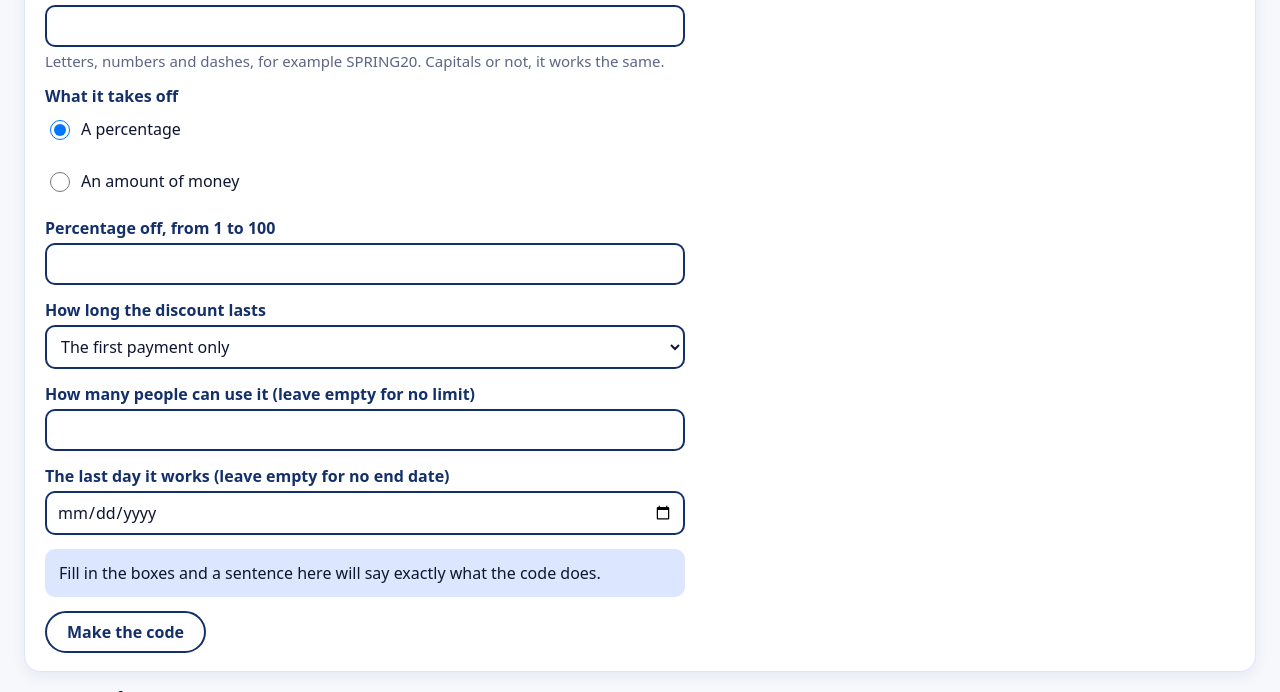
Test: the form › has a labelled box for everything, a percentage chosen to begin with, and months only when months are chosen
(page scrolled)
Check: the field labelled "The code members type" is shown, box [45,5,685,47]
Check: the field labelled "Percentage off, from 1 to 100" is shown, box [45,243,685,285]
Select "A number of months" in the dropdown labelled "How long the discount lasts": point(365, 347) [45,325,685,369]
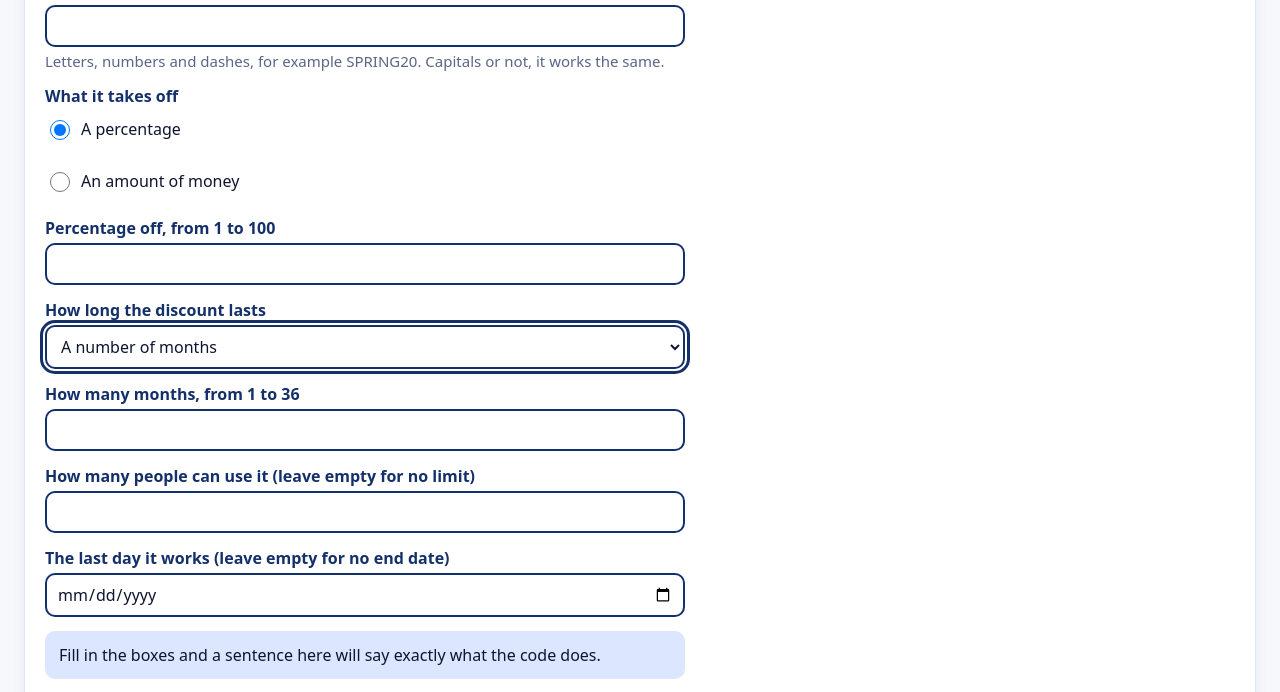
Check: the field labelled "How many months, from 1 to 36" is shown, box [45,409,685,451]
Select "For as long as they keep their passes" in the dropdown labelled "How long the discount lasts": point(365, 347) [45,325,685,369]
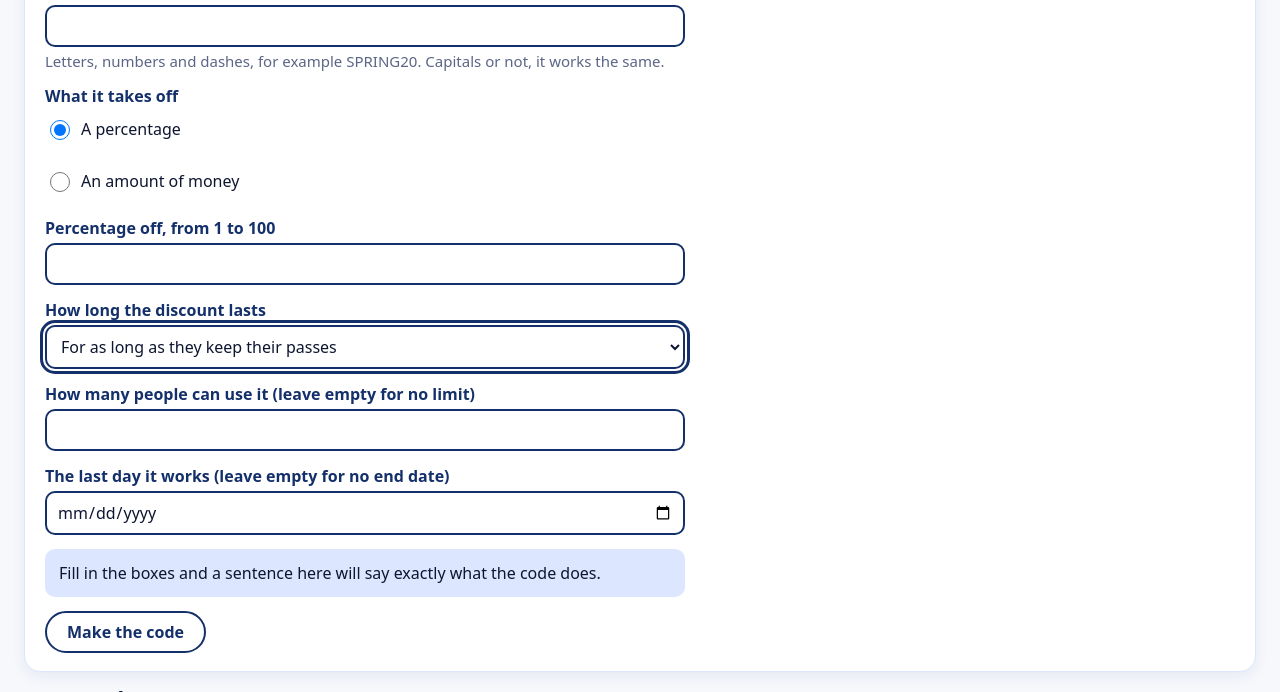
Check: the label labelled "How many months" is gone
